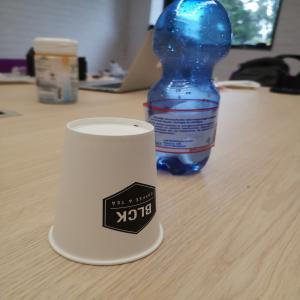Cup: (48, 118, 166, 267)
Plastic-bottle: (144, 1, 233, 178)
